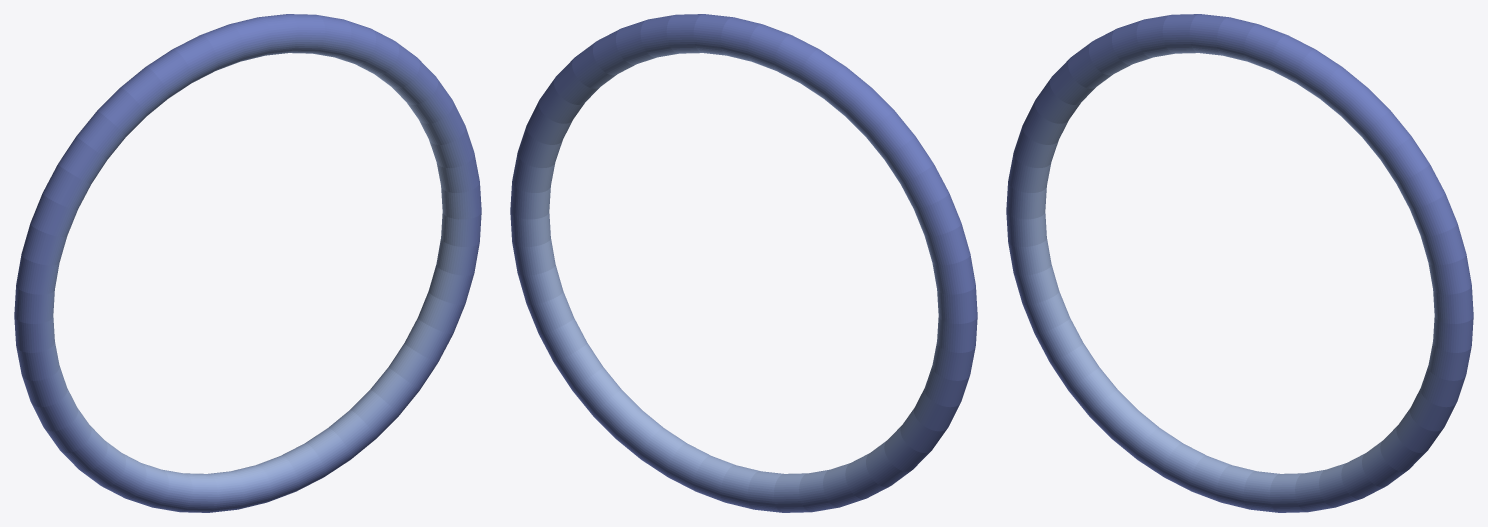
3 renders of one model, left to right at view 1: azimuth 30°, elevation 25°; view 2: azimuth 150°, elevation 25°; view 3: azimuth 330°, elevation 25°, orthographic.
Parts seen in each view (by area): view 1: world; view 2: world; view 3: world.
Boxes of the visible parts, bbox=[...] form: world: bbox=[14, 14, 481, 512]; world: bbox=[510, 14, 977, 512]; world: bbox=[1006, 14, 1473, 512].
Size of the model in its own units: 30.93 by 30.87 by 2.26.
